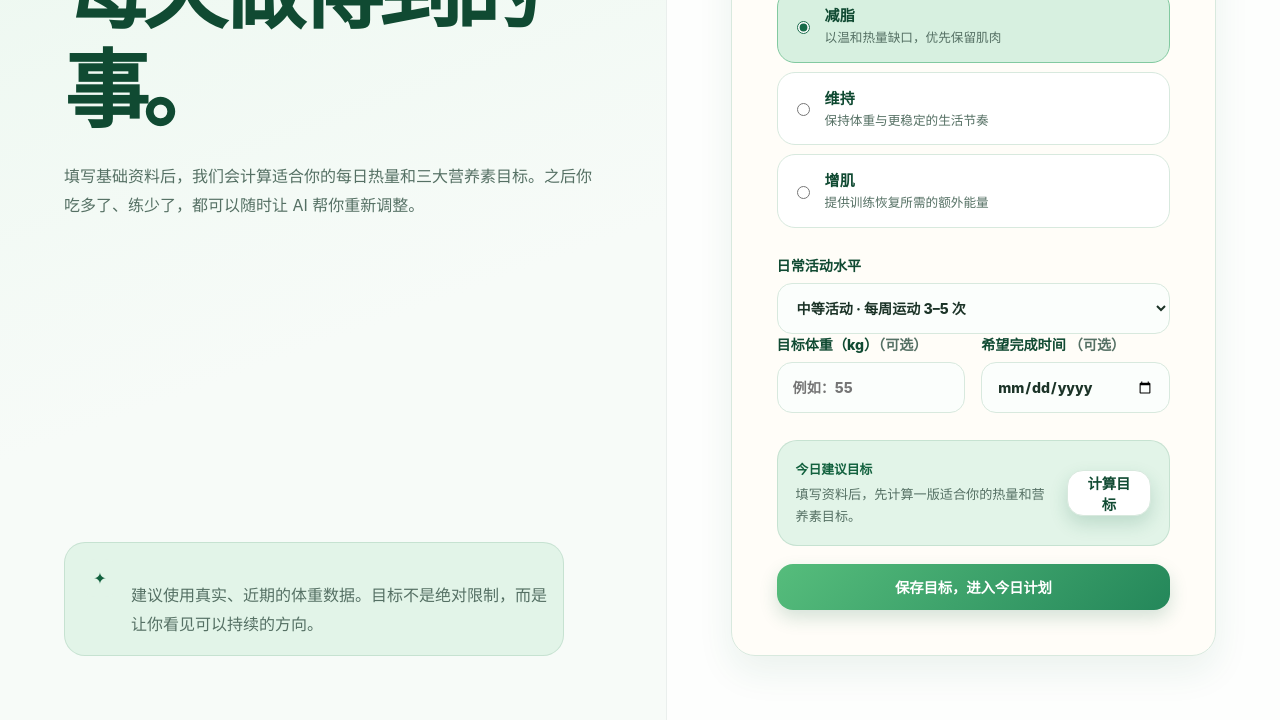
it: InitialSetupPage › shows validation before making a calculation request
(page scrolled)
Click the button "计算目标": (1109, 493) [1067,470,1151,516]
(page scrolled)
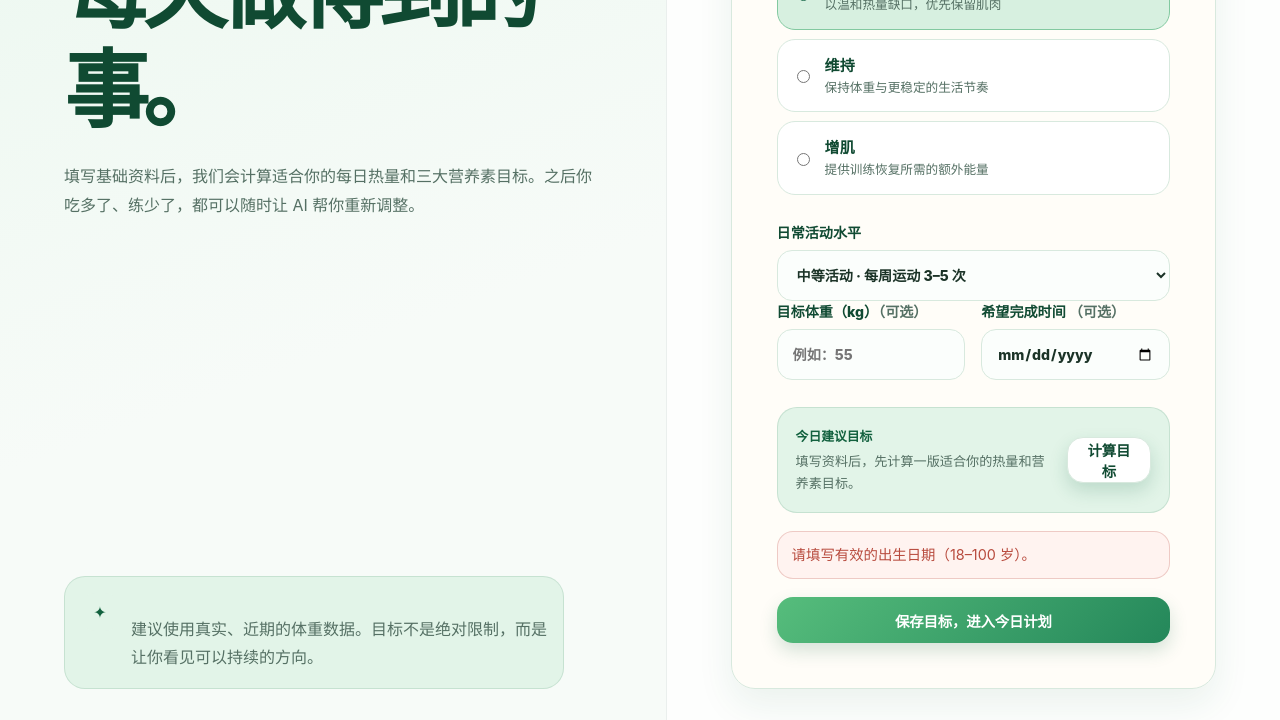
Expected: the message "请填写有效的出生日期（18–100 岁）。" is shown, [777,531,1170,579]
